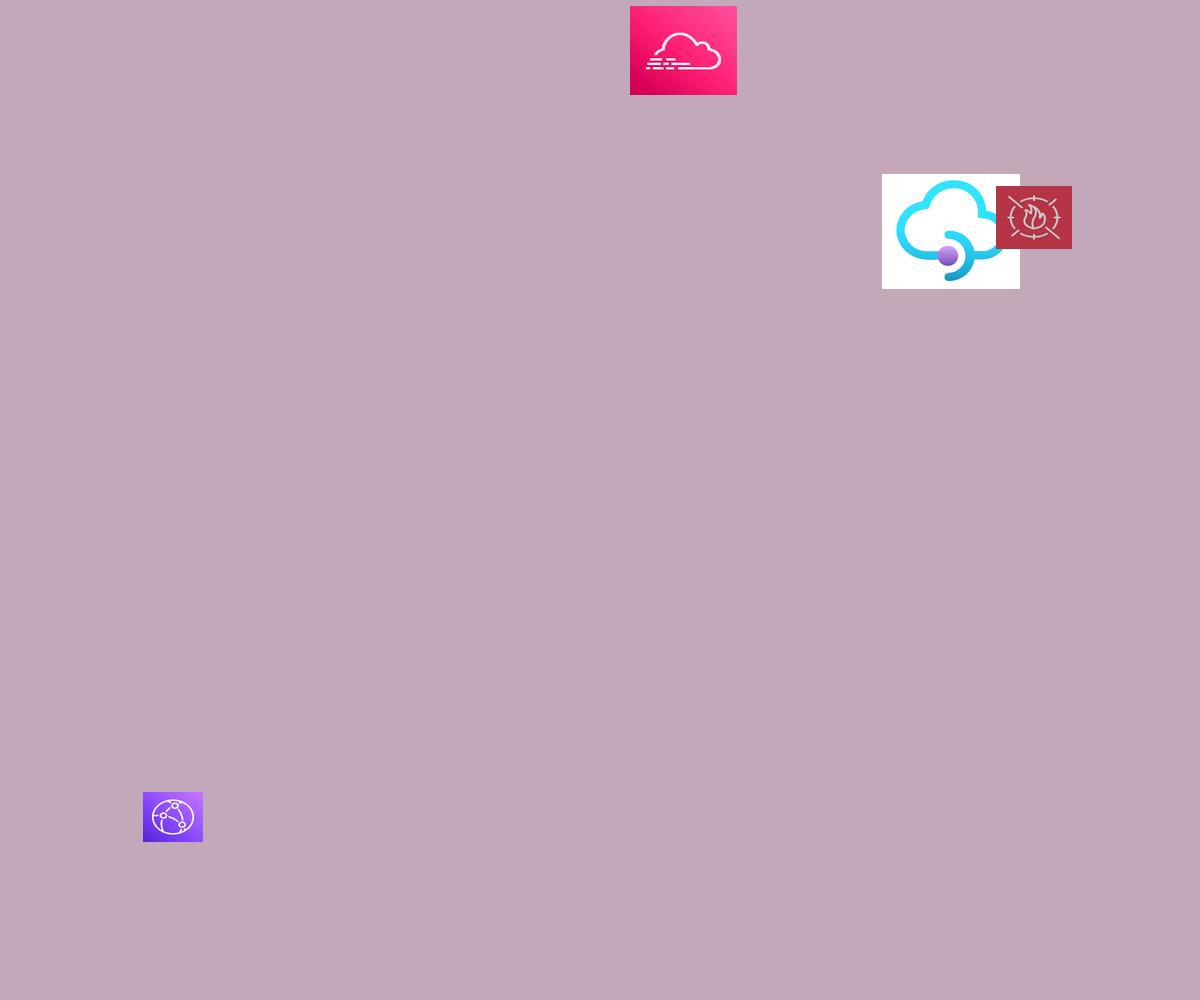AWS-CloudFront: (143, 792, 203, 842)
AWS-CloudTrail: (630, 6, 737, 95)
AWS-WAF: (996, 186, 1072, 249)
Azure_api_gateway: (882, 174, 1020, 289)
